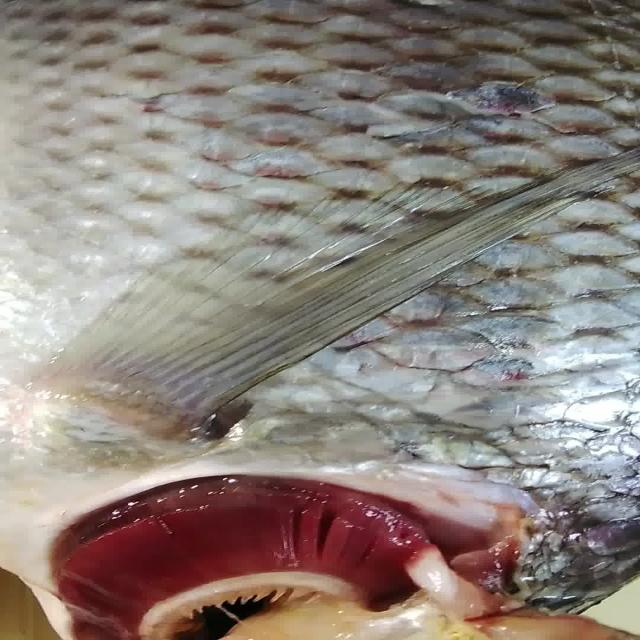Fresh: (124, 0, 640, 427), (63, 473, 462, 640)
